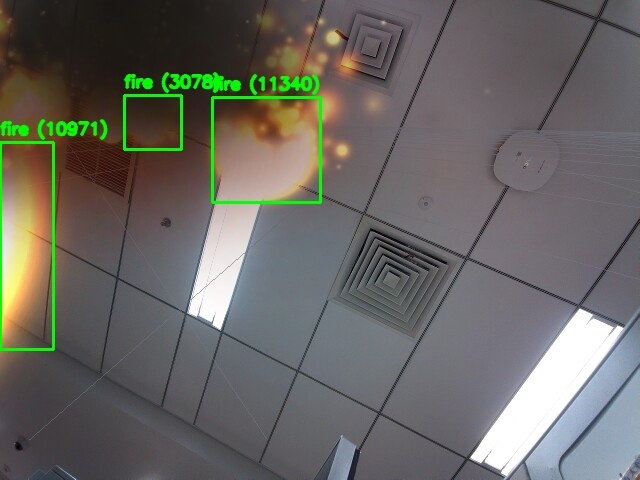fire: (212, 97, 320, 202), (0, 142, 53, 349), (124, 95, 181, 149)
